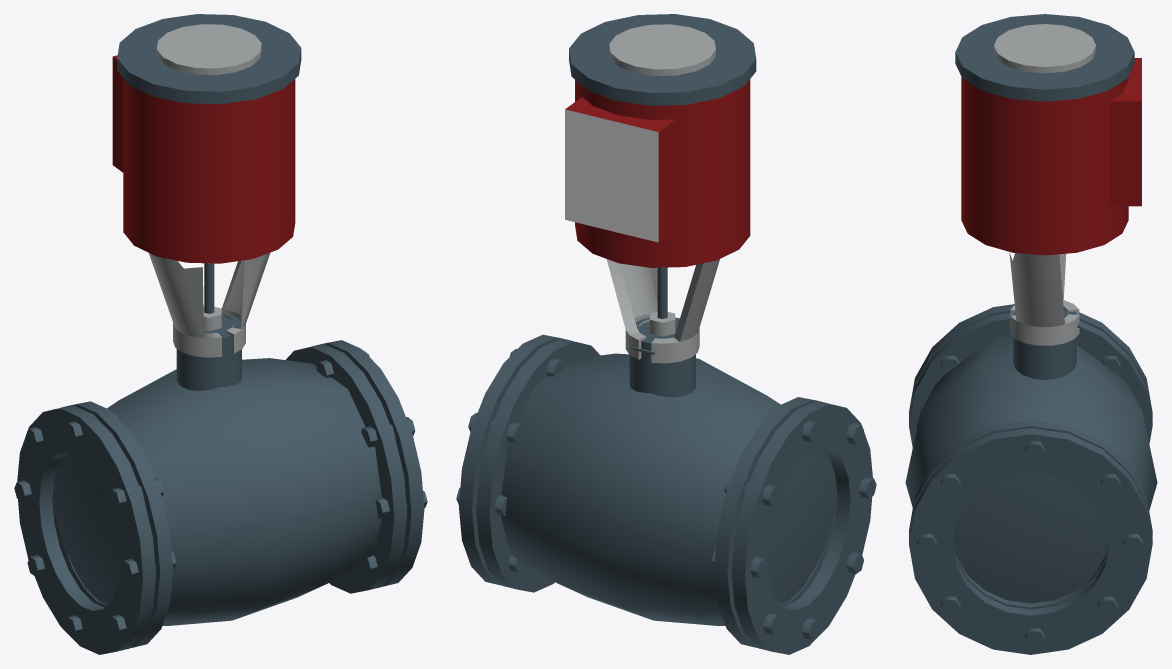
Rendered from electric_control_valve.obj.
3 views of the same model, side by side, from view 1: azimuth 30°, elevation 25°; view 2: azimuth 150°, elevation 25°; view 3: azimuth 270°, elevation 25° (orthographic). The views are drawn at different scales.
Visible parts, largest first — view 1: __.2, __.5, __, __.4, __.8, __.6, __.1, ___1, ___.1; view 2: __.2, __, __.5, ___.1, __.4, __.8, __.6, __.1, ___1; view 3: __.2, __.5, __.4, __, __.8, ___.1, __.6, ___2, __.1.
Boxes of the visible parts, left/top/right/bottom form: __.2: left=52, top=263, right=424, bottom=647; __.5: left=123, top=78, right=295, bottom=263; __: left=17, top=312, right=407, bottom=654; __.4: left=117, top=14, right=301, bottom=104; __.8: left=149, top=253, right=270, bottom=357; __.6: left=156, top=24, right=261, bottom=74; __.1: left=17, top=307, right=427, bottom=636; ___1: left=14, top=362, right=382, bottom=636; ___.1: left=112, top=55, right=123, bottom=172; __.2: left=459, top=267, right=837, bottom=647; __: left=476, top=317, right=872, bottom=654; __.5: left=575, top=79, right=750, bottom=267; ___.1: left=565, top=97, right=675, bottom=242; __.4: left=569, top=14, right=756, bottom=105; __.8: left=606, top=259, right=719, bottom=363; __.6: left=609, top=24, right=715, bottom=75; __.1: left=456, top=311, right=873, bottom=639; ___1: left=502, top=360, right=876, bottom=639; __.2: left=905, top=313, right=1157, bottom=654; __.5: left=961, top=77, right=1128, bottom=255; __.4: left=955, top=14, right=1134, bottom=101; __: left=909, top=304, right=1152, bottom=609; __.8: left=1009, top=252, right=1079, bottom=345; ___.1: left=1109, top=58, right=1141, bottom=206; __.6: left=994, top=24, right=1095, bottom=73; ___2: left=917, top=359, right=1142, bottom=647; __.1: left=916, top=356, right=1143, bottom=638.
Size of the model in its own units: 164 by 297 by 125.
